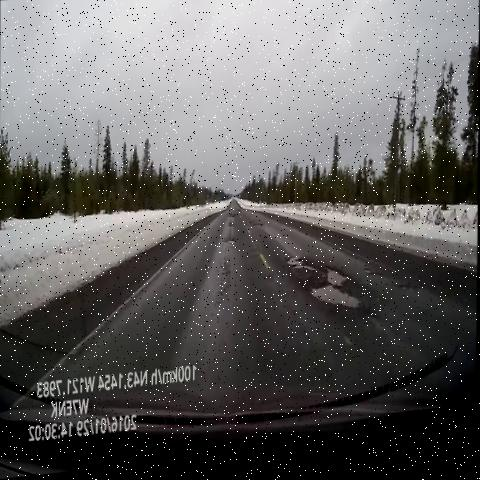pothole: (307, 290, 366, 331), (282, 257, 317, 289), (322, 267, 353, 302), (396, 286, 422, 314), (359, 268, 382, 294), (220, 234, 239, 256), (250, 224, 265, 239)
